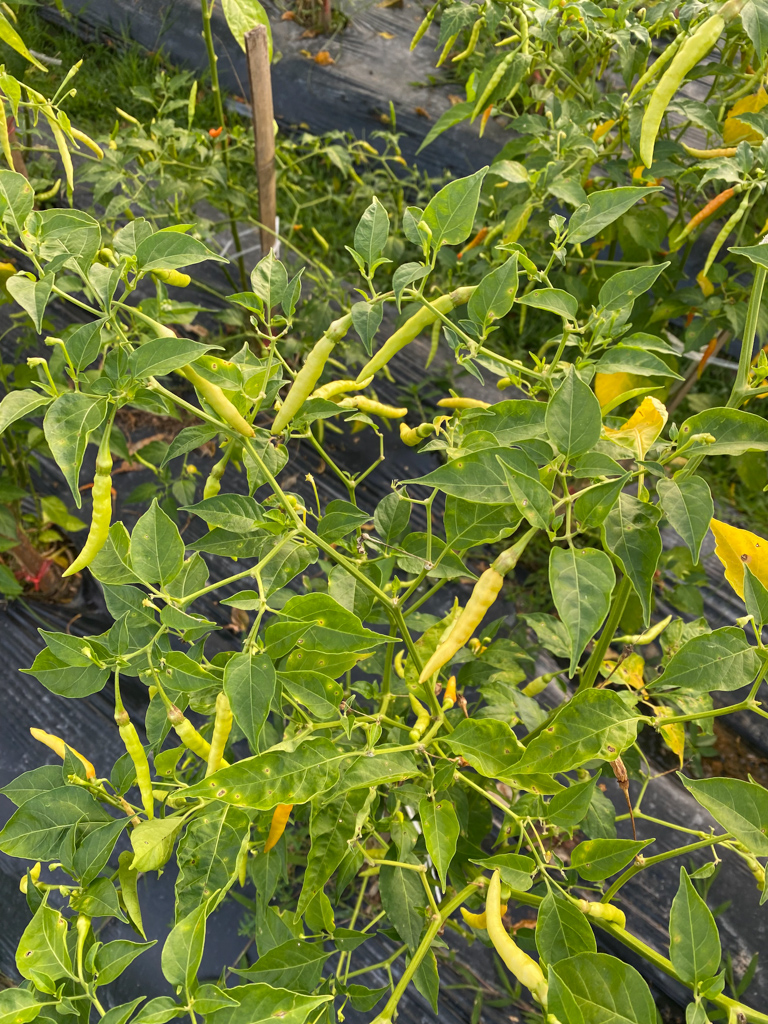frog-eye leafspot: (199, 764, 278, 803), (509, 778, 544, 796), (207, 359, 232, 372), (324, 680, 341, 699), (269, 1007, 293, 1020), (196, 882, 213, 899), (542, 722, 559, 737), (314, 614, 329, 628), (600, 742, 617, 754), (22, 948, 37, 961), (453, 458, 466, 472), (295, 637, 308, 648), (504, 284, 515, 296), (315, 656, 328, 666)
